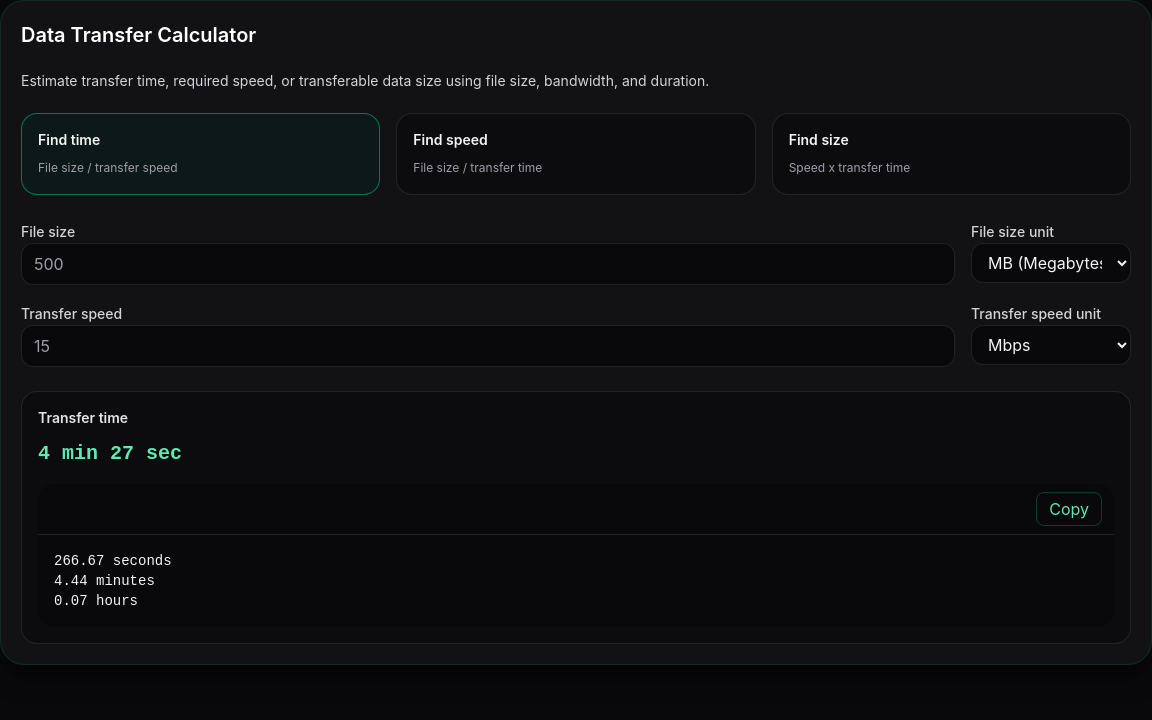
Scenario: Data Transfer stable arithmetic across modes › finds time for 8 b at 1 B/s
Step 1. Type "8" into the field labelled "File size" → (488, 264), box top-left (21, 243), bottom-right (955, 285)
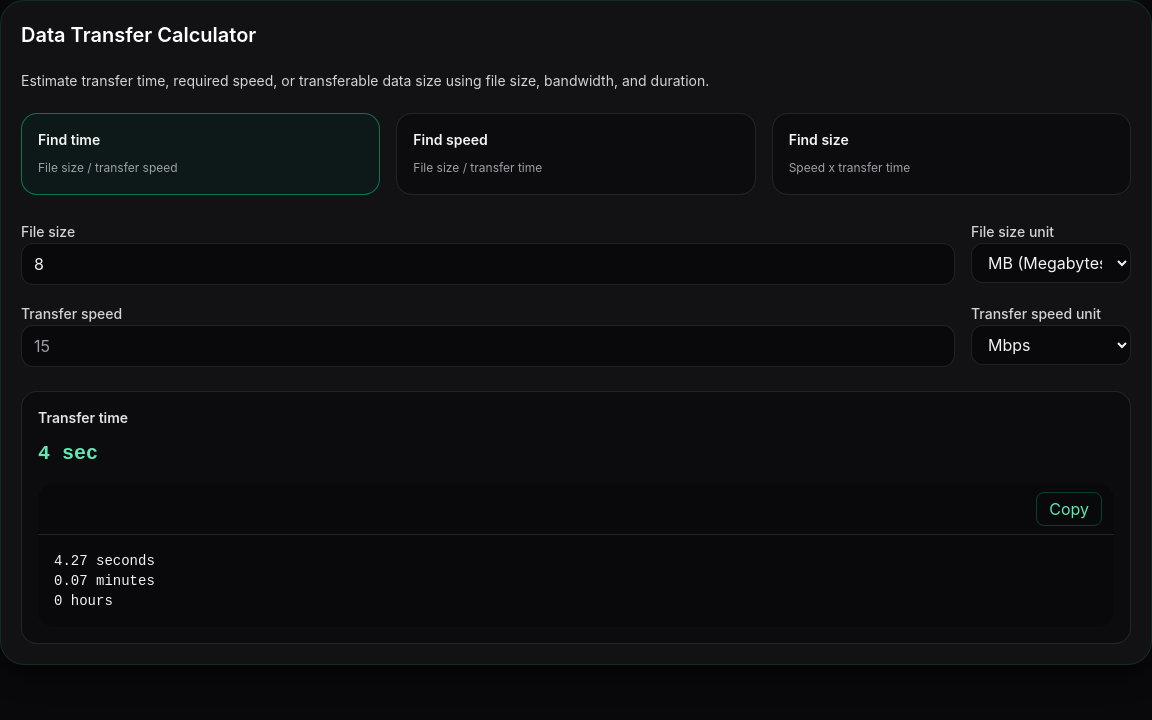
Step 2. Type "1" into the field labelled "Transfer speed" → (488, 346), box top-left (21, 325), bottom-right (955, 367)
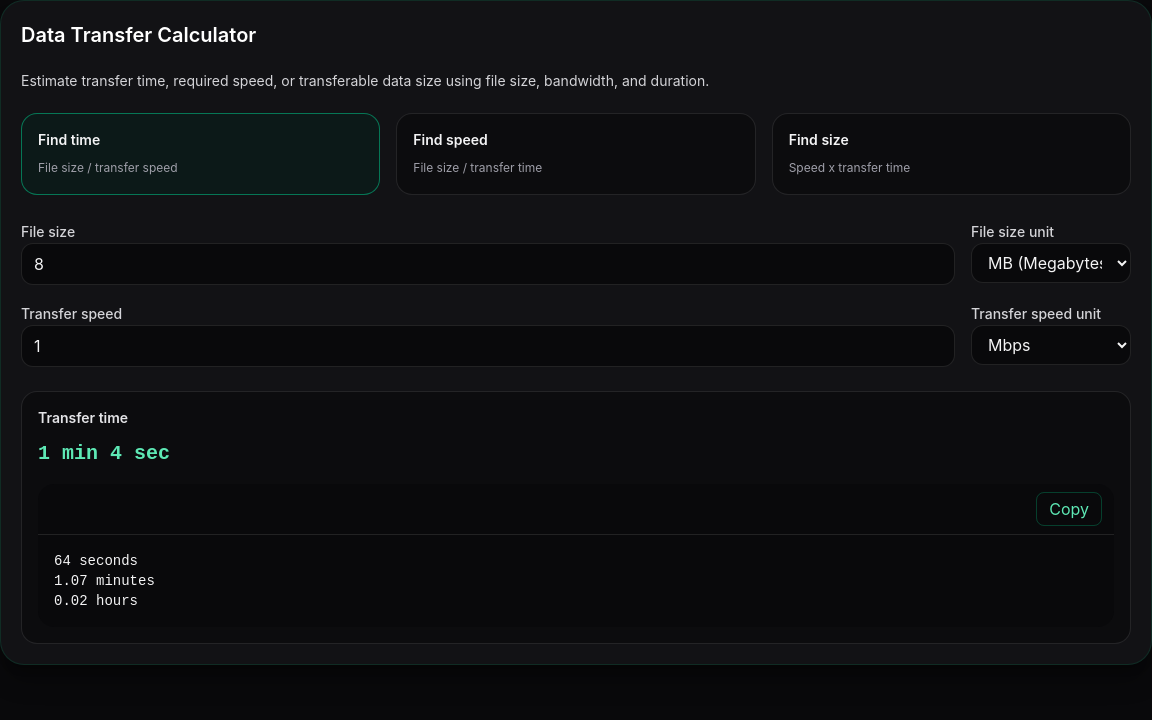
Step 3. Select "b (bits)" in the dropdown labelled "File size unit" → (1051, 263), box top-left (971, 243), bottom-right (1131, 283)
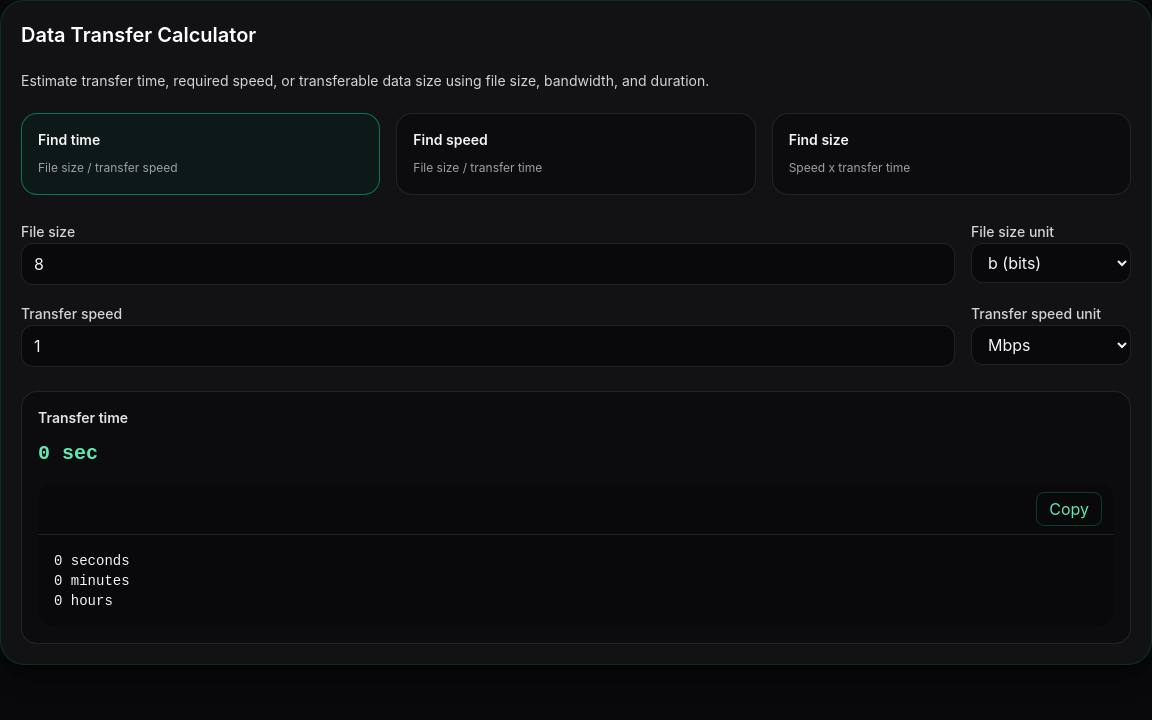
Step 4. Select "B/s" in the dropdown labelled "Transfer speed unit" → (1051, 345), box top-left (971, 325), bottom-right (1131, 365)
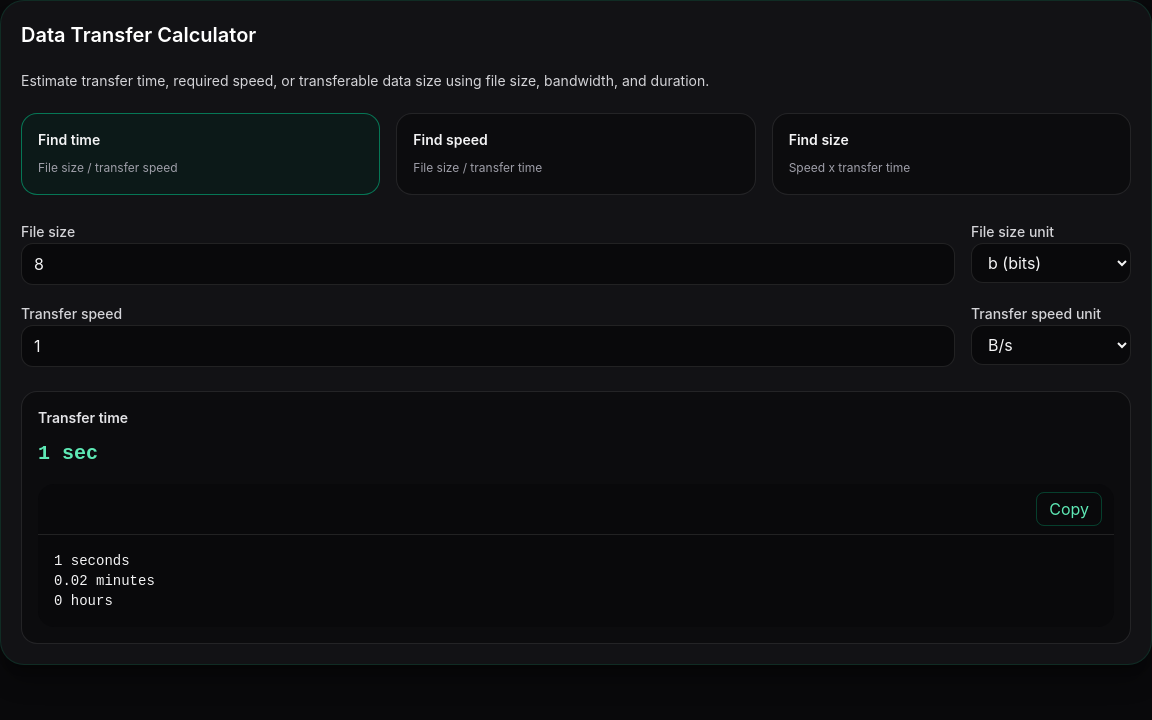
Result: the text "1 sec" is shown at top-left (38, 442), bottom-right (98, 465)
